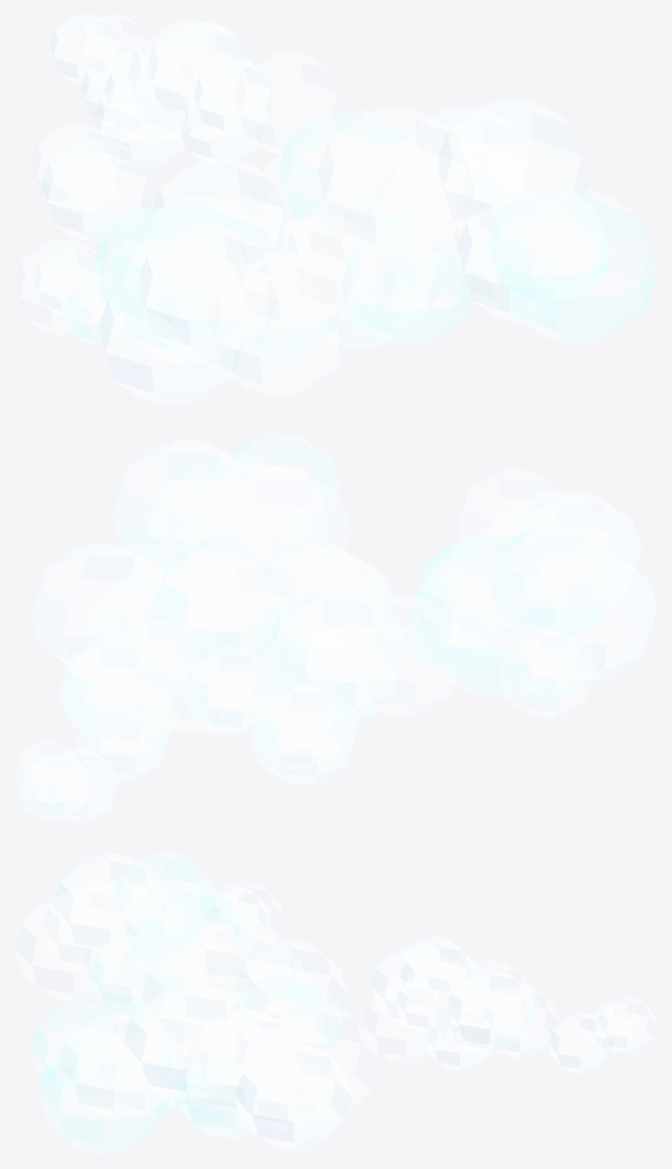
Rendered from fog_knight_mist.glb.
3 views of the same model, one above another, from view 1: azimuth 30°, elevation 25°; view 2: azimuth 150°, elevation 25°; view 3: azimuth 270°, elevation 25° (orthographic). The views are drawn at different scales.
Parts seen in each view (by area): view 1: fog_knight_mist; view 2: fog_knight_mist; view 3: fog_knight_mist.
Boxes of the visible parts, x1,y1,x2,y2 form: fog_knight_mist: (14,14,657,404); fog_knight_mist: (14,433,657,822); fog_knight_mist: (14,851,657,1154).
Bounding box in the file's own units: 0.8737 × 0.3313 × 1.14.
